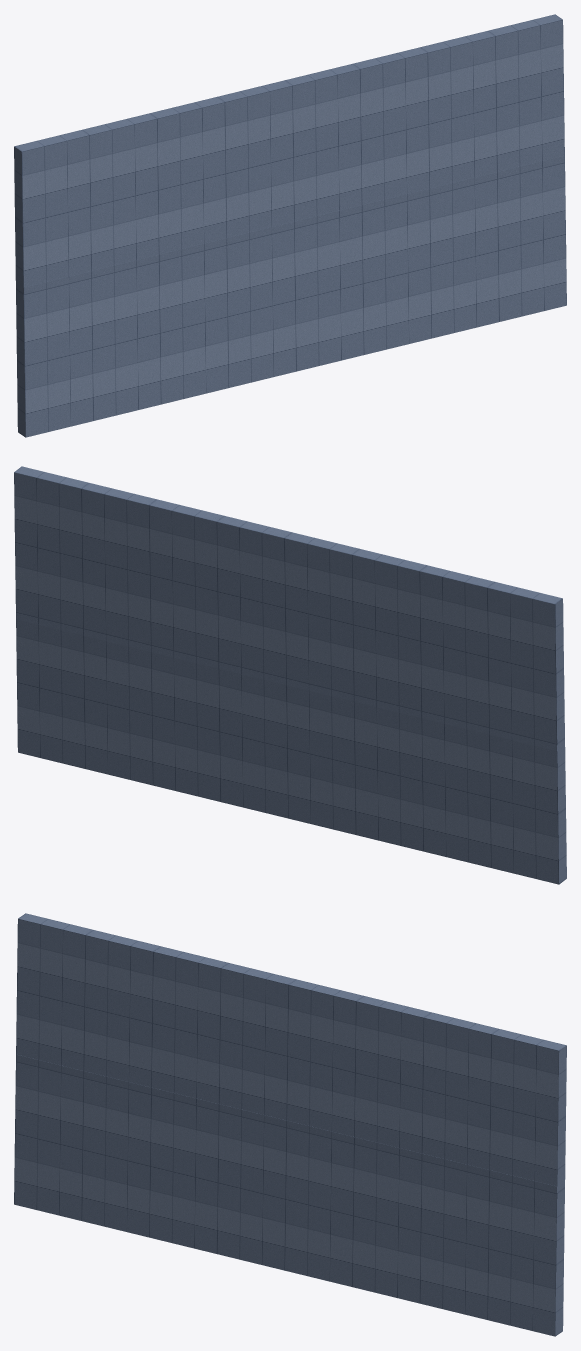
3 views of the same model, one above another, from view 1: azimuth 30°, elevation 25°; view 2: azimuth 150°, elevation 25°; view 3: azimuth 330°, elevation 25° (orthographic).
Visible parts, largest first — view 1: roof_canopy_production_run001; view 2: roof_canopy_production_run001; view 3: roof_canopy_production_run001.
Part boxes in pixels (bbox=[...]): roof_canopy_production_run001: bbox=[14, 14, 566, 437]; roof_canopy_production_run001: bbox=[14, 466, 566, 884]; roof_canopy_production_run001: bbox=[14, 913, 566, 1336].
Size of the model in its own units: 8 by 4 by 0.2999.
Materials: 1 (1 with a texture image).
